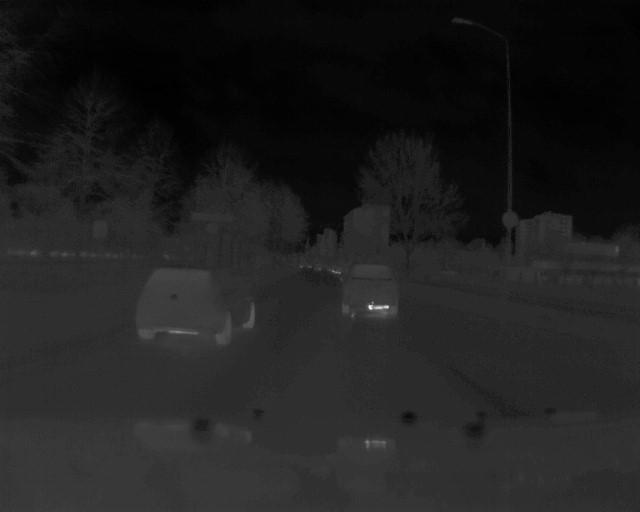car: (136, 266, 258, 345), (342, 255, 408, 321)
